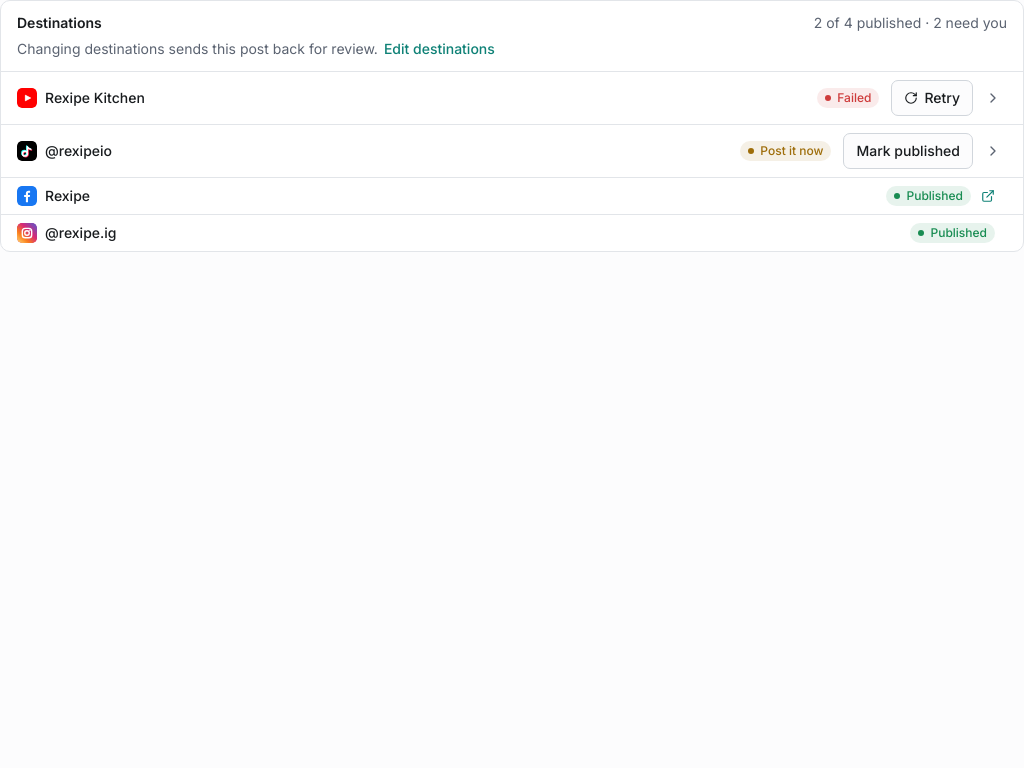
Test case: DestinationsPanel — outcomes › offers Retry on the failed row and Mark published on the by-hand one, and opens the form under it
Click the button "Retry" at point(932, 98), box [891, 80, 973, 116]
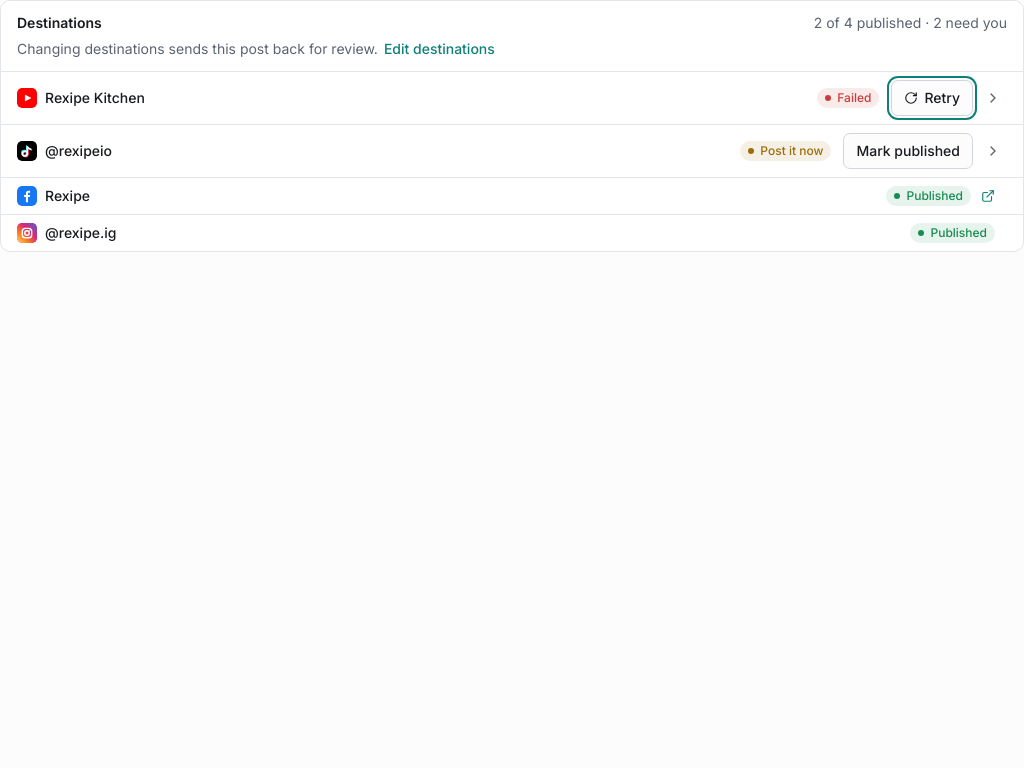
Click the button "Mark published" at point(908, 151), box [844, 133, 973, 169]
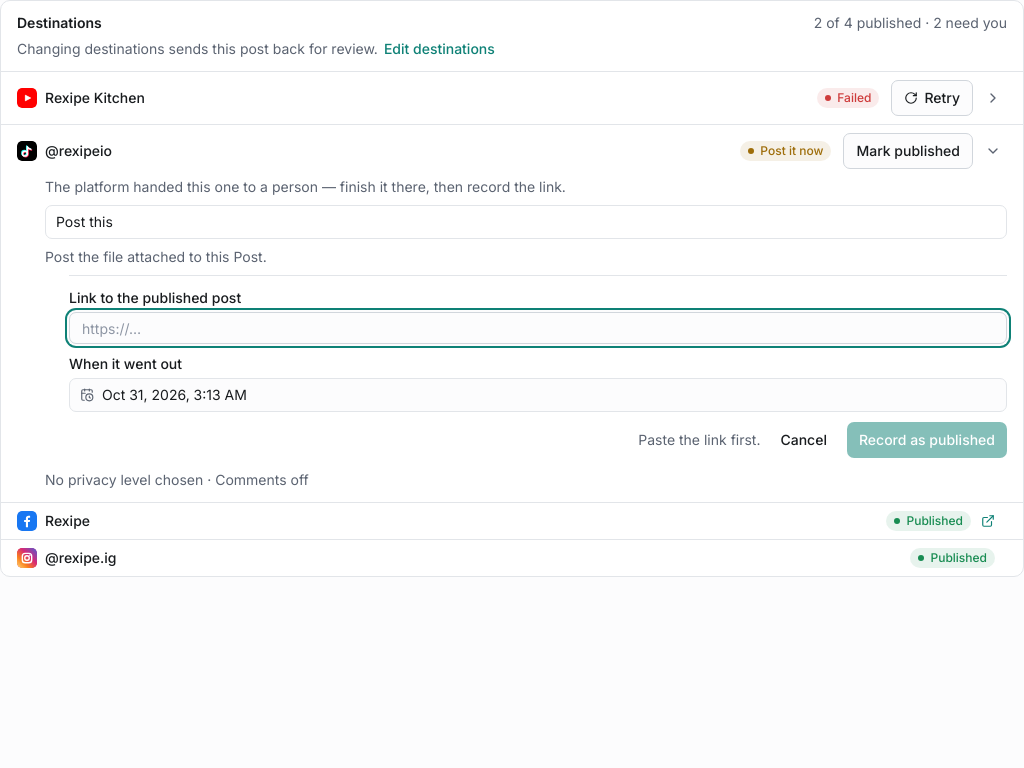
expect the field labelled "Link to the published post" is shown: met, box [69, 312, 1007, 344]
expect the text "Post this" is shown: met, box [45, 205, 1007, 239]
